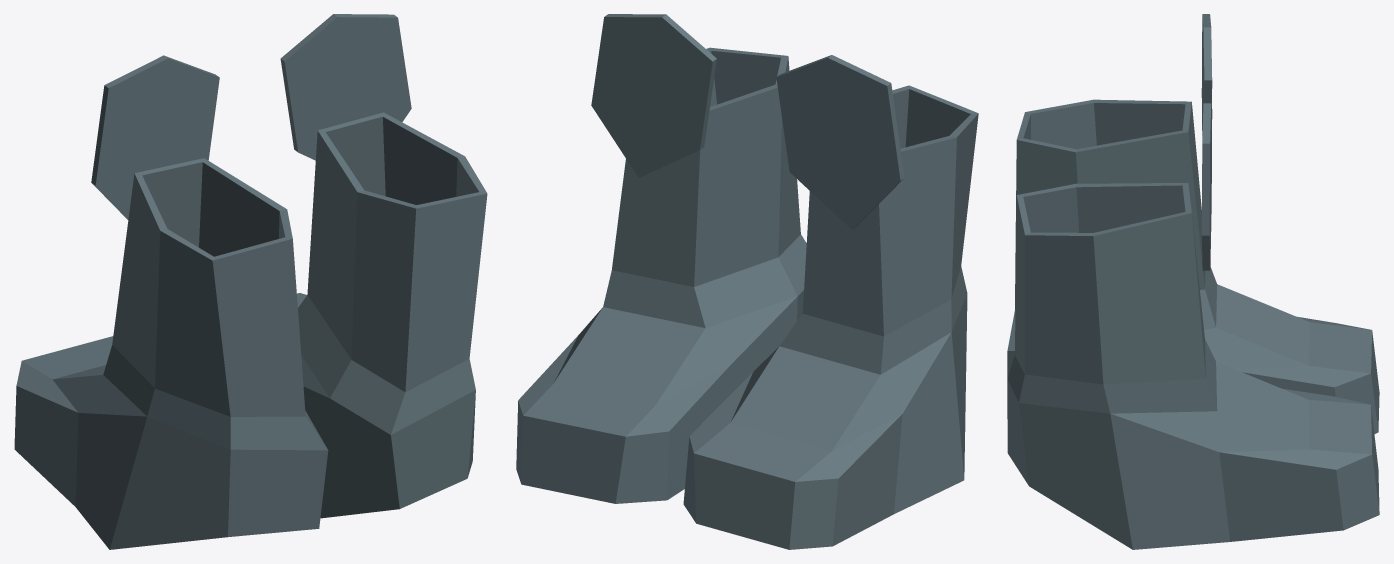
Rendered from lowpoly_FPS_Human_Boots.fbx.
3 renders of one model, left to right at view 1: azimuth 30°, elevation 25°; view 2: azimuth 150°, elevation 25°; view 3: azimuth 270°, elevation 25°, orthographic. The views are drawn at different scales.
Parts seen in each view (by area): view 1: Boots; view 2: Boots; view 3: Boots.
Boxes of the visible parts, <box> form: Boots: <box>14,14,487,549</box>; Boots: <box>516,14,978,549</box>; Boots: <box>1007,14,1379,549</box>.
Size of the model in its own units: 0.375 by 0.3628 by 0.4365.
1 material, 1 textured.
